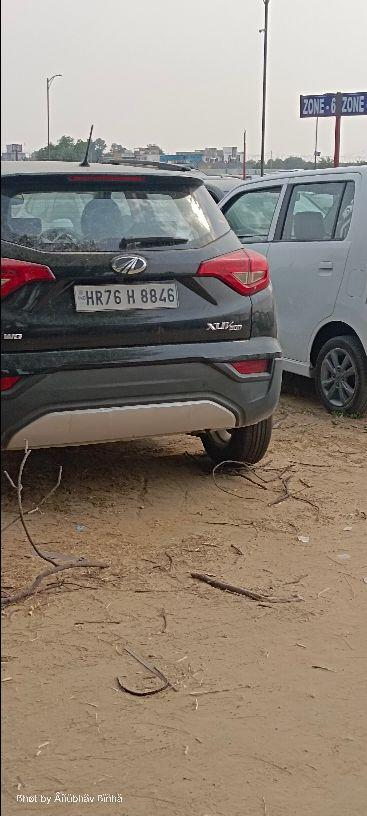license_plate: (72, 279, 179, 312)
